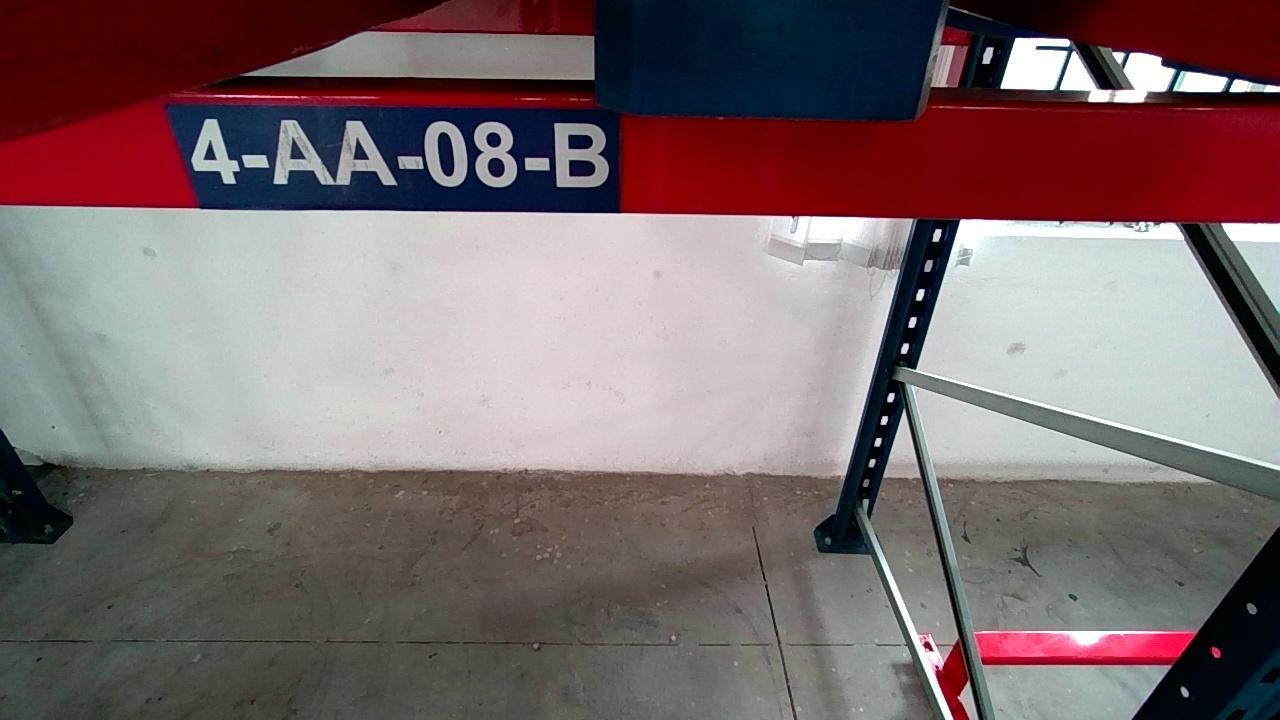h_rack: (5, 96, 1279, 216)
